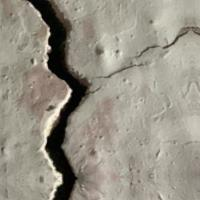crack: (15, 0, 124, 199)
